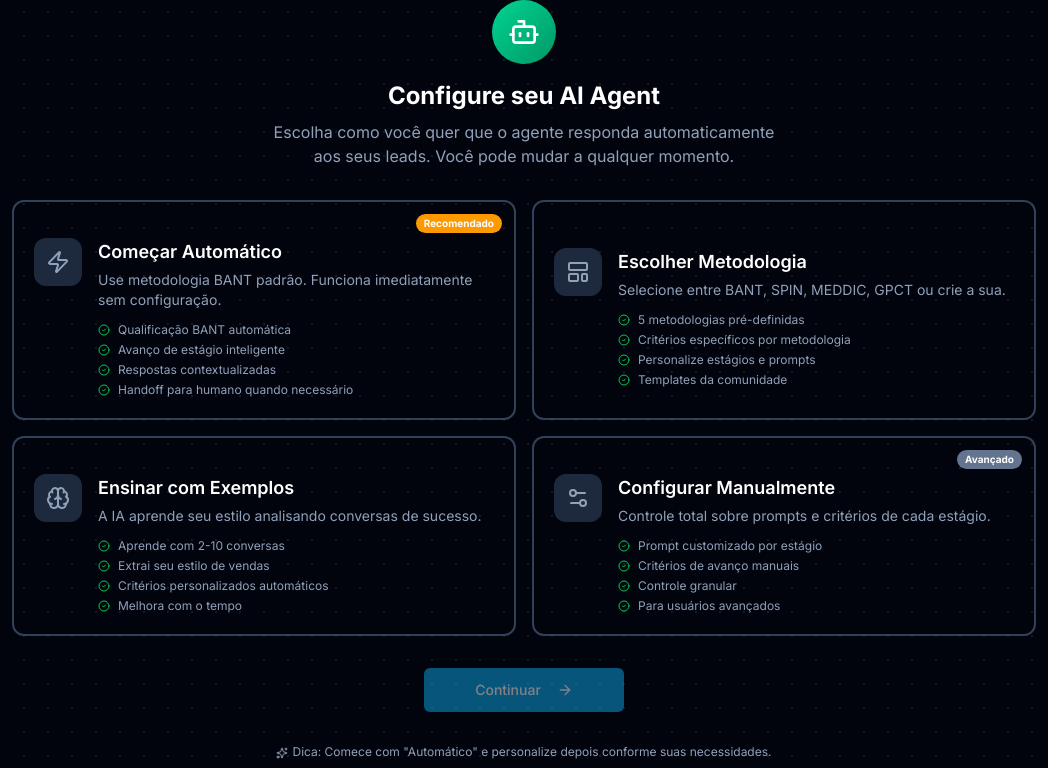
Test: Story — US-AI-001: AI Configuration Mode Selection › AIOnboarding › enables continue button after selecting a mode
Note: Select first mode
Click the button "Começar Automático".
click(459, 224)  # box [12,200,516,420]
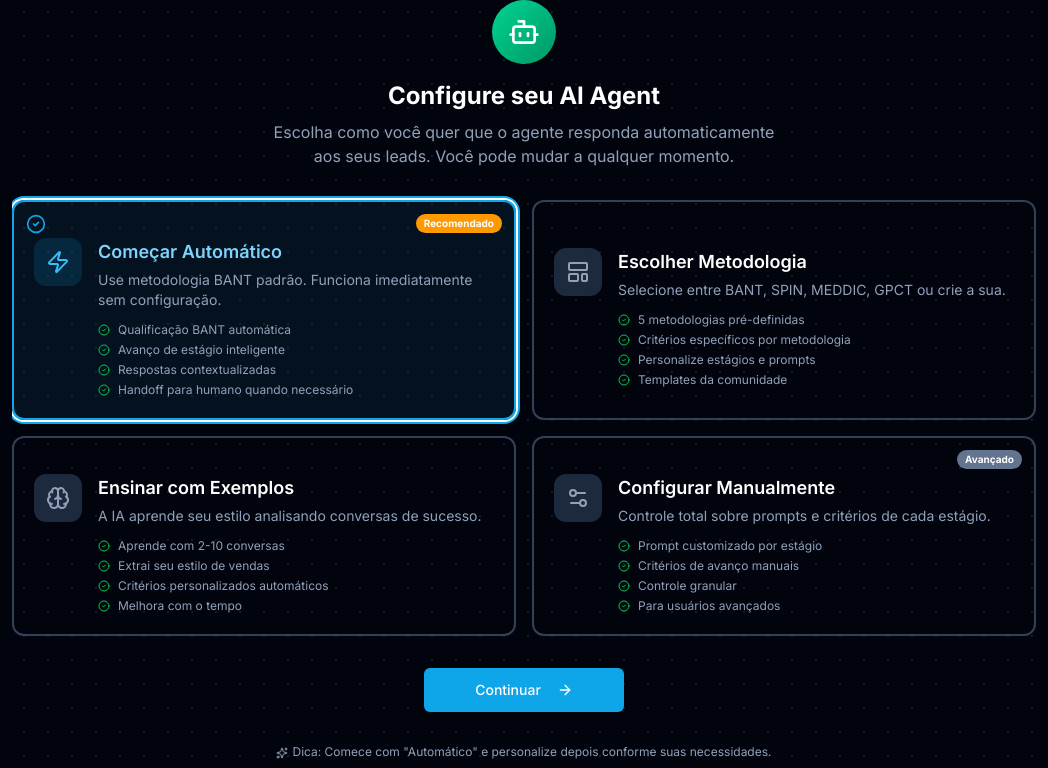
Expected: the button "Continuar" is enabled, [424,668,624,712]
